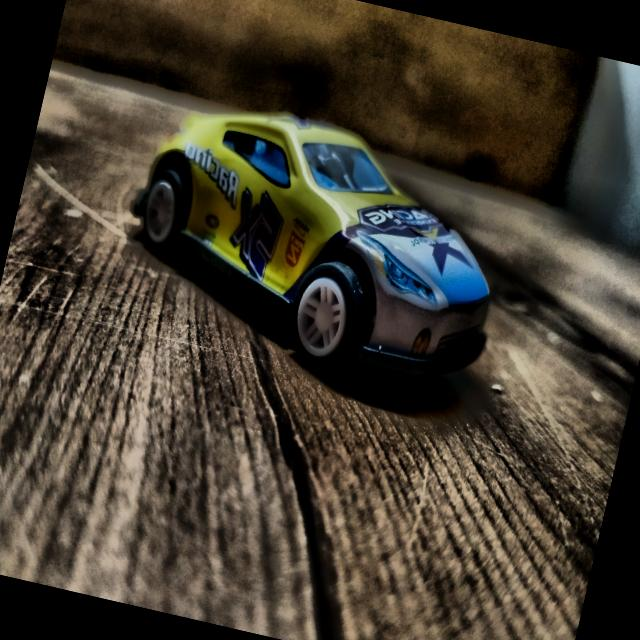Car: (107, 86, 523, 404)
